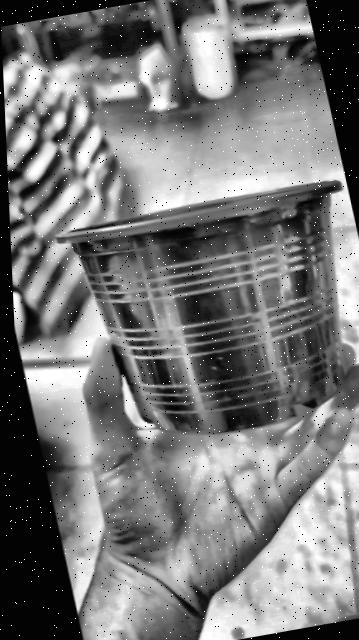pot: (57, 181, 342, 434)
